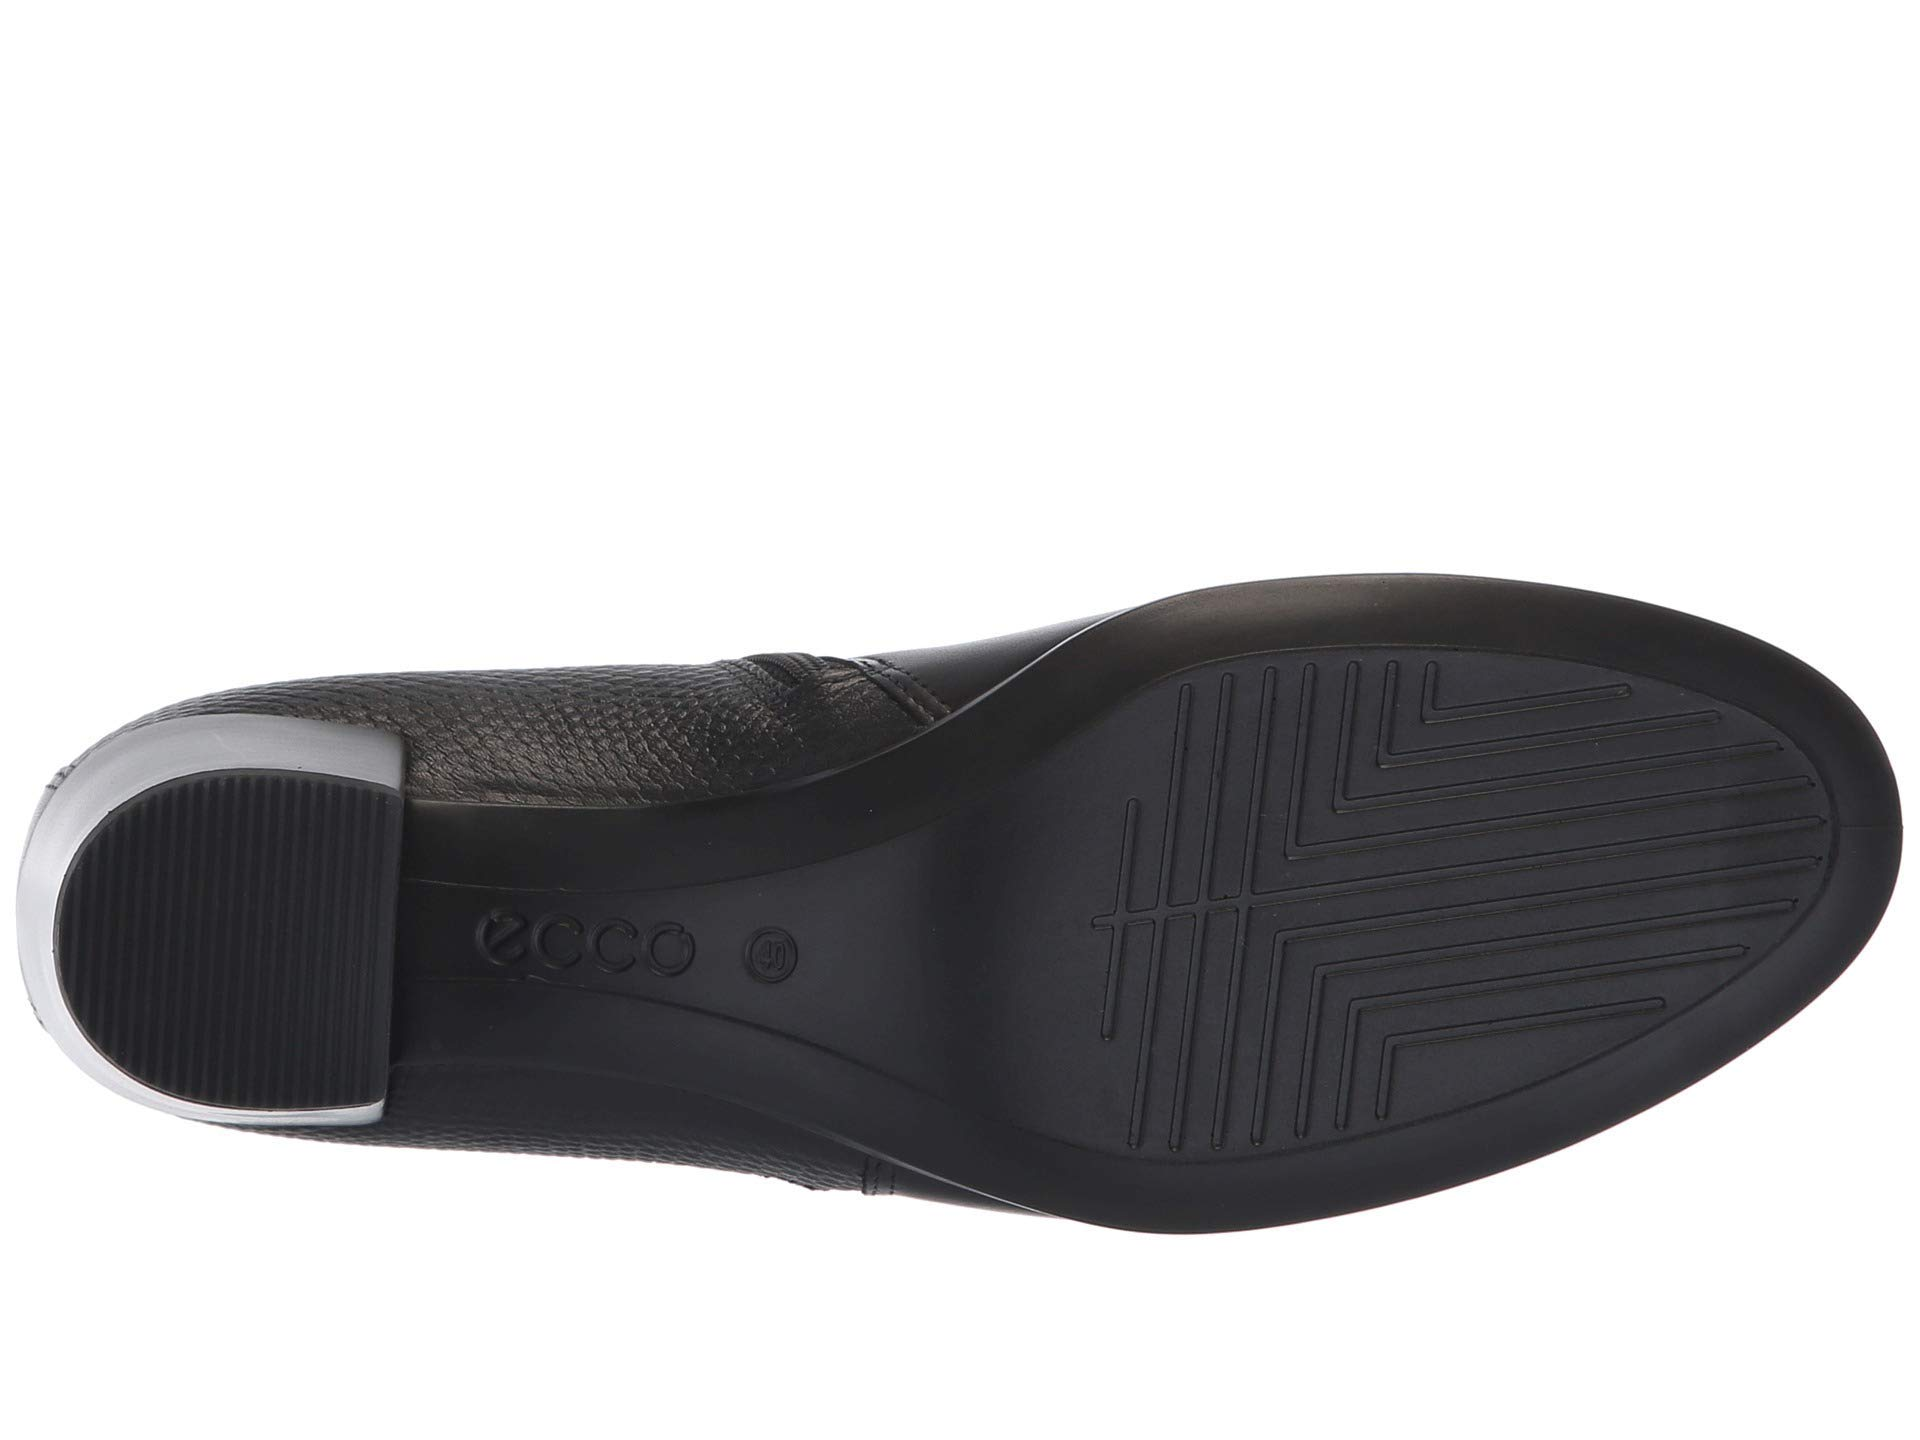chevron: (1271, 663, 1661, 880), (1234, 898, 1474, 1094)
line: (1067, 767, 1209, 1124), (184, 855, 354, 1069)
